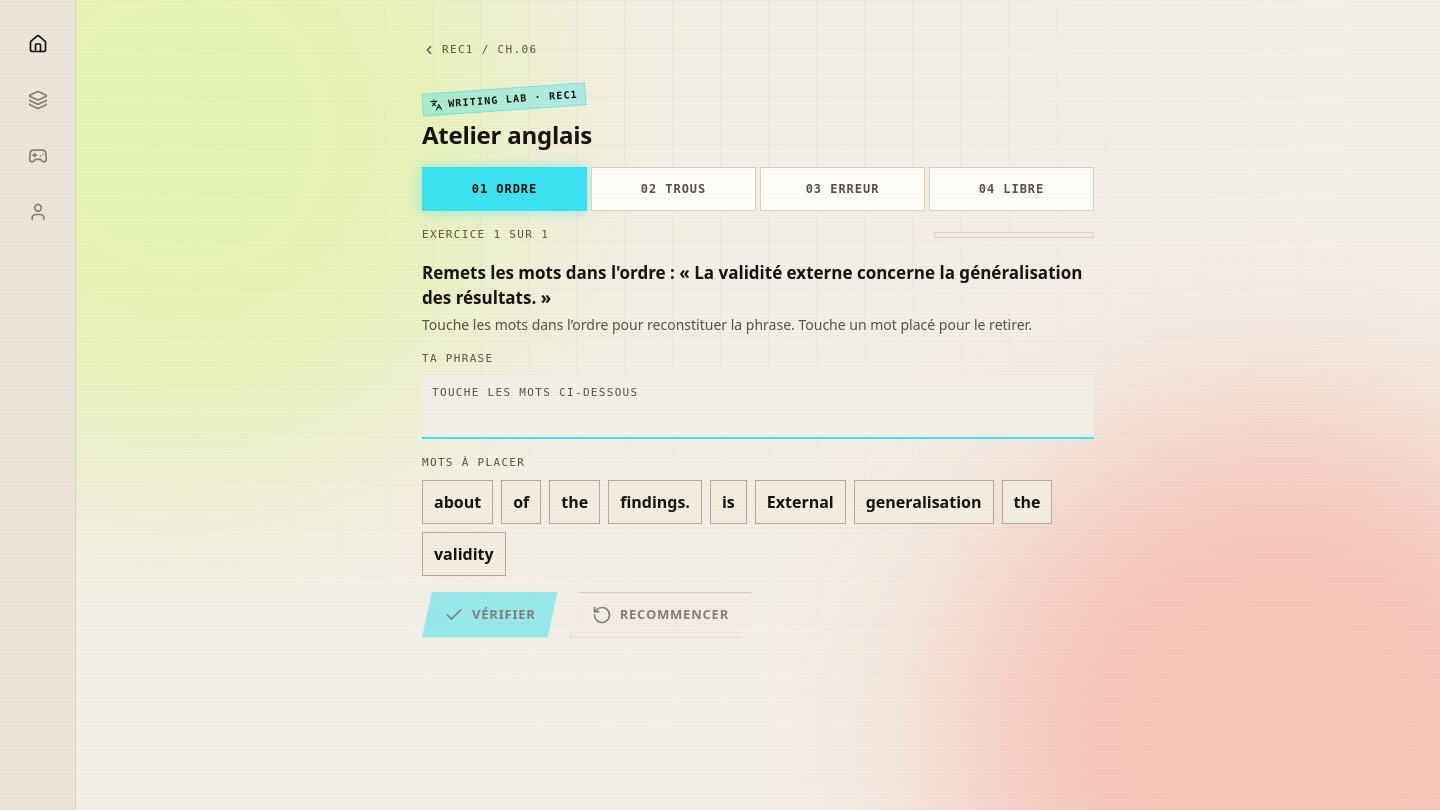
it: atelier anglais REC1-05 › niveau 2 : variantes acceptées, traduction après validation
Expected: the element named "Niveaux de l’atelier" is shown, x1=422 y1=167 x2=1094 y2=211
Click the tab "02 TROUS" at coordinates (674, 189), box x1=591 y1=167 x2=756 y2=211
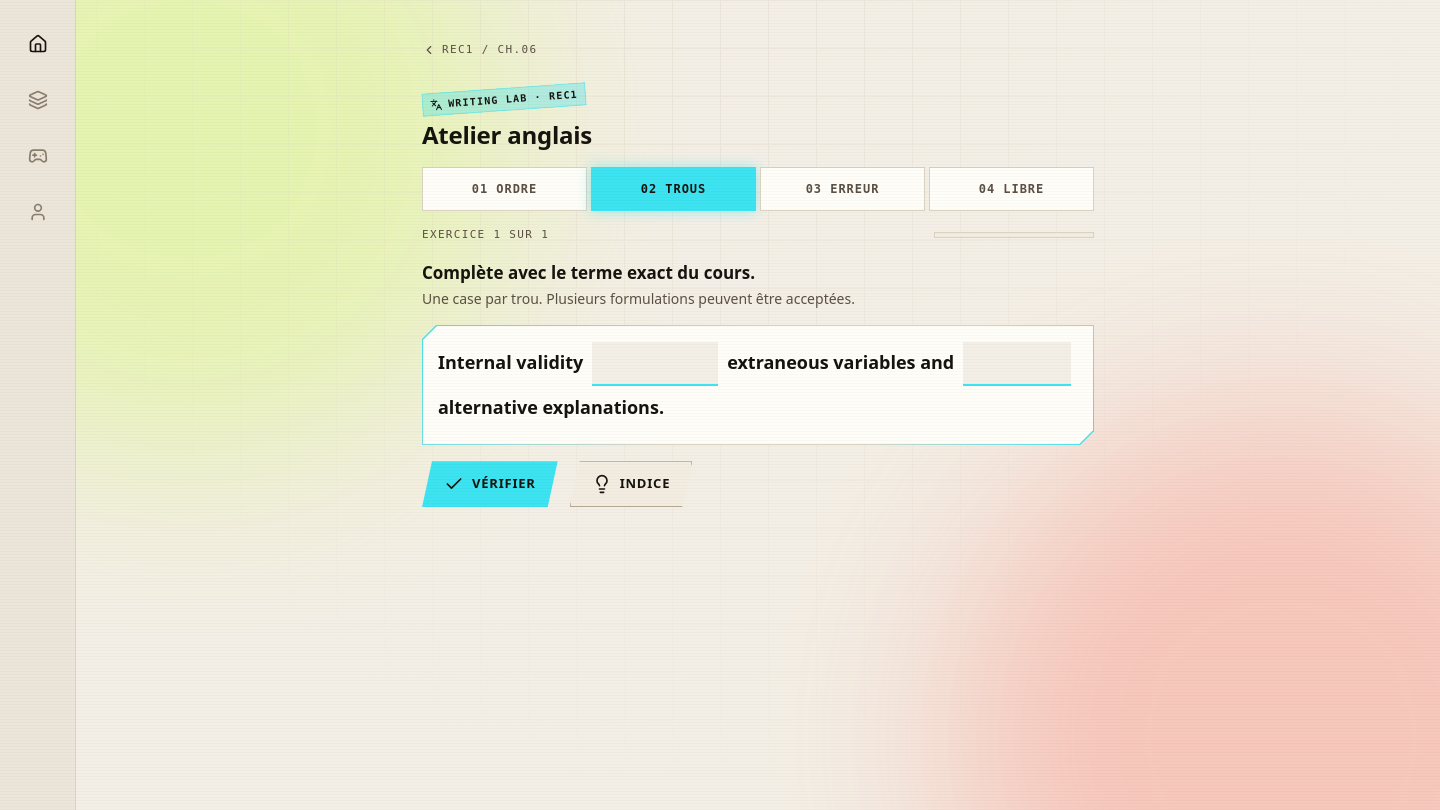
Expected: the text "FR" is not shown
Type "Controls for" into the field named "Trou 1 sur 2" at coordinates (655, 364), box x1=592 y1=342 x2=718 y2=386
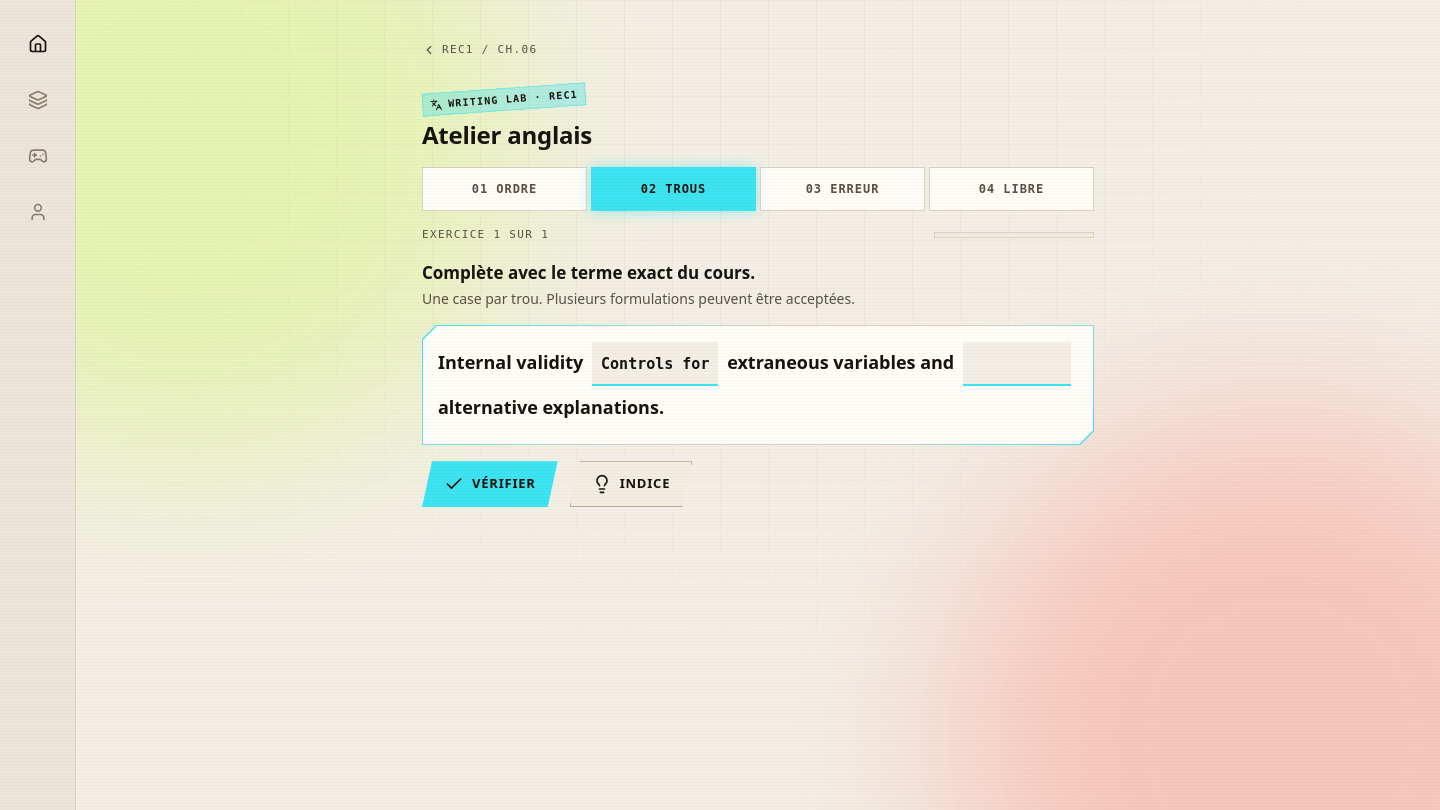
Type "rules out." into the field named "Trou 2 sur 2" at coordinates (1017, 364), box x1=963 y1=342 x2=1071 y2=386
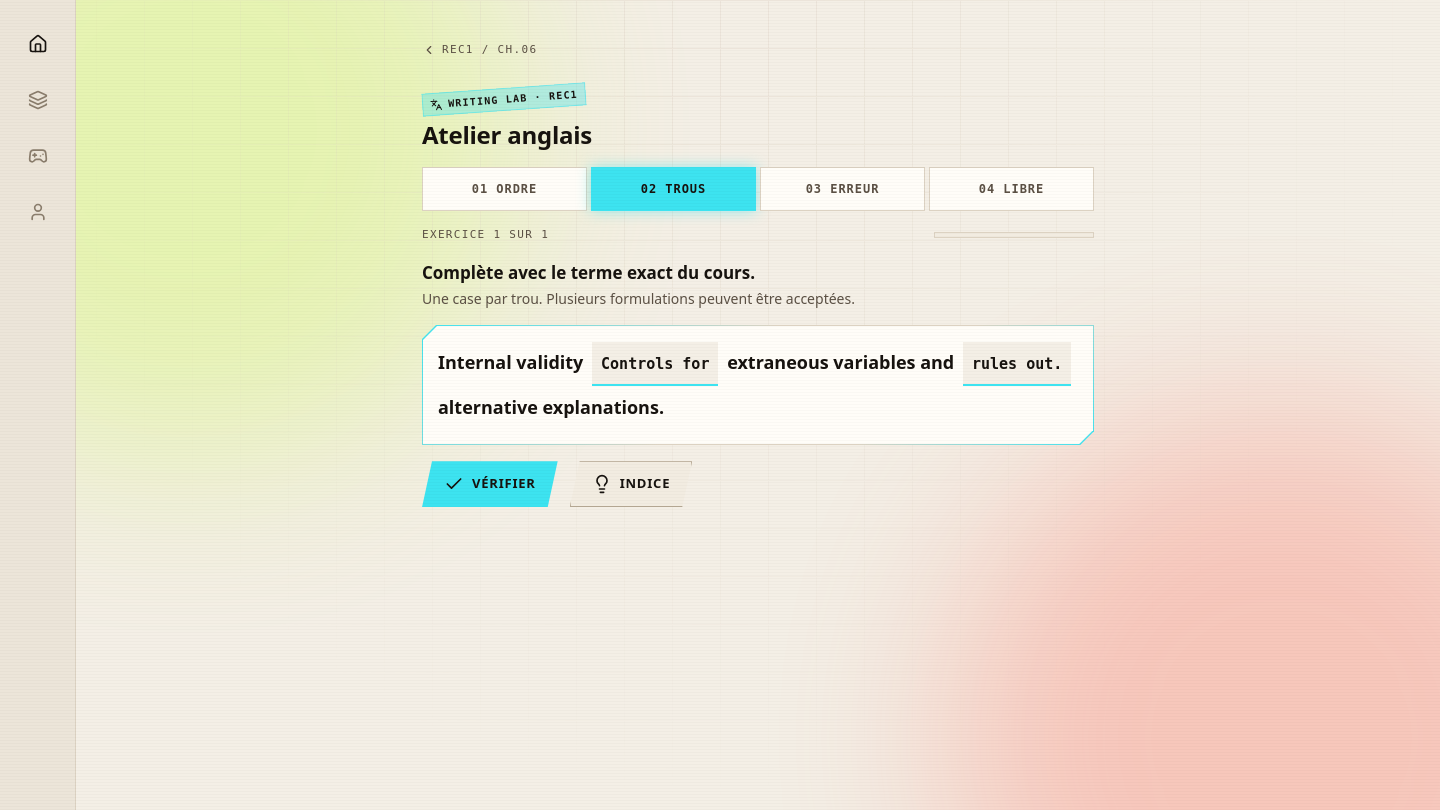
Click the button "Vérifier" at coordinates (490, 484), box x1=422 y1=461 x2=558 y2=507
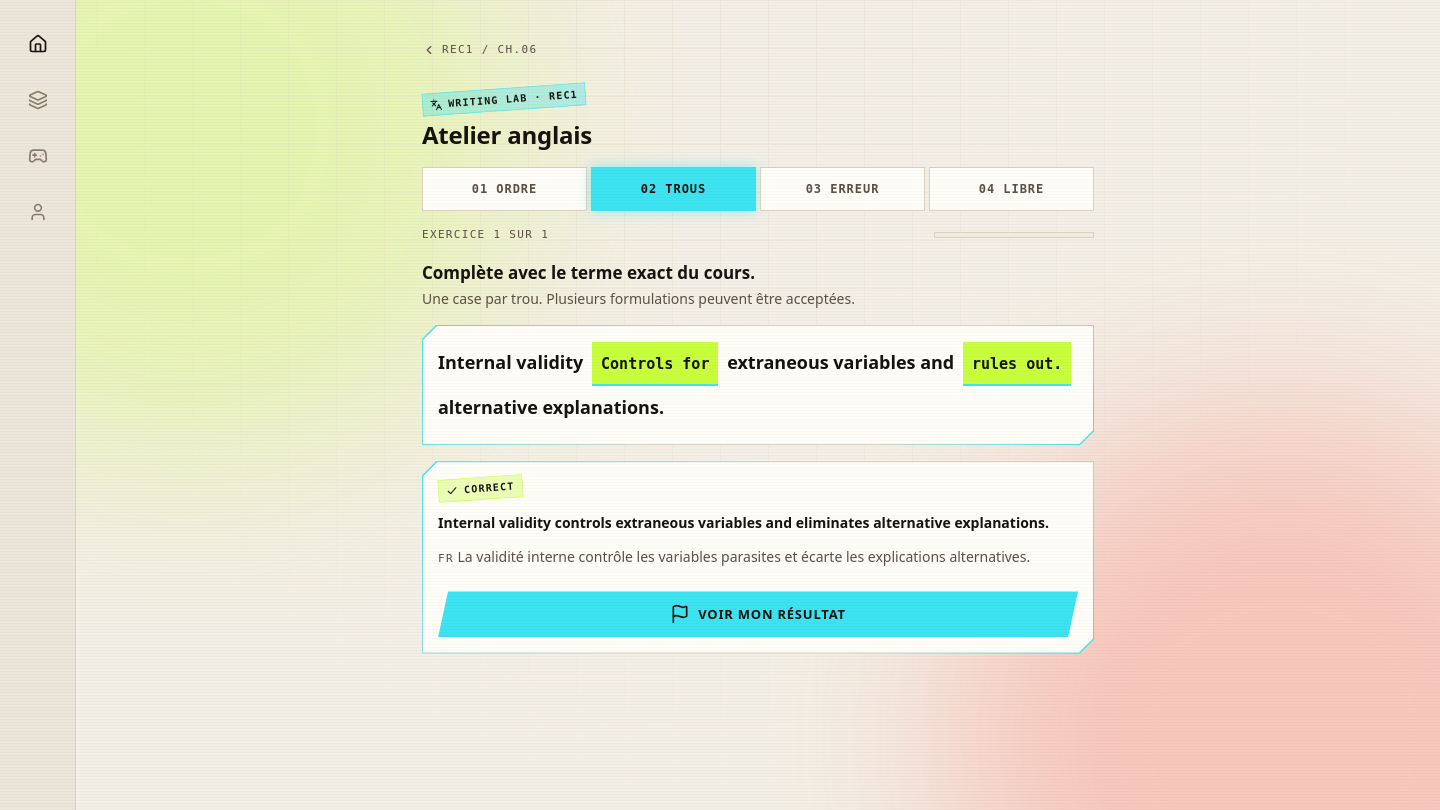
Expected: the element "Correct" is shown, x1=438 y1=477 x2=1078 y2=638
Expected: the text "contrôle les variables parasites" is shown, x1=458 y1=547 x2=1030 y2=566
